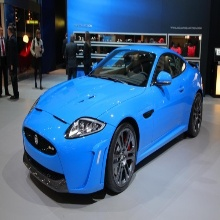no damage: (21, 44, 204, 196)
